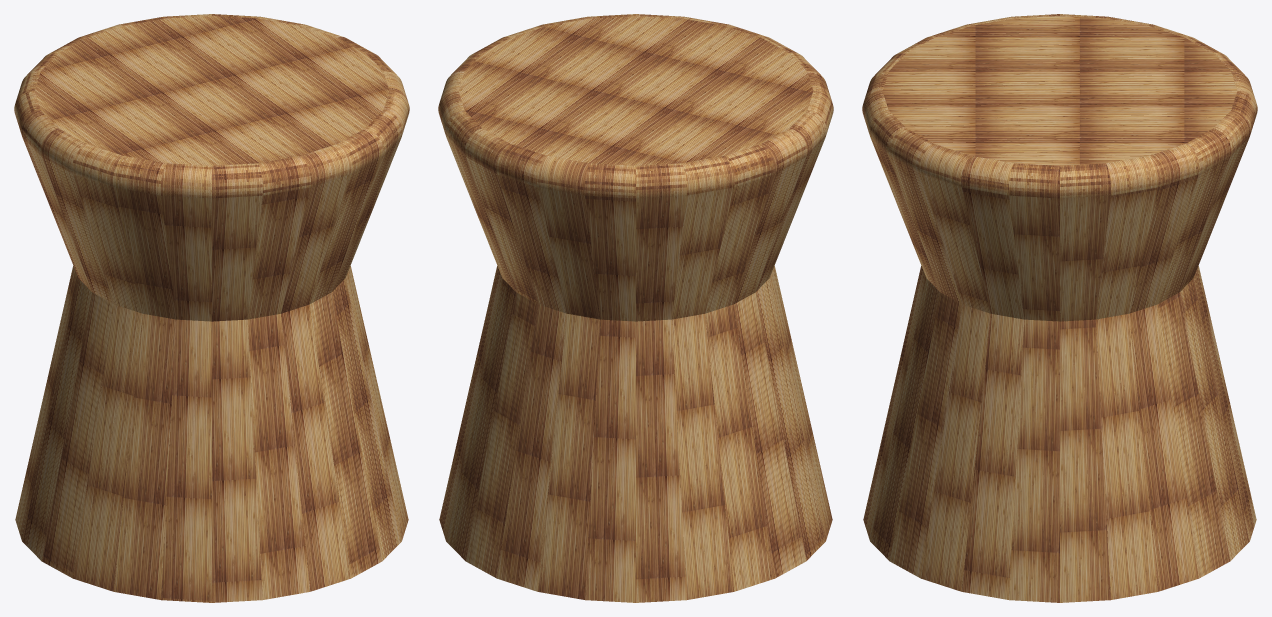
File: woodenstool.fbx
The picture shows the model from 3 angles, left to right: view 1: azimuth 30°, elevation 25°; view 2: azimuth 150°, elevation 25°; view 3: azimuth 270°, elevation 25°; orthographic projection.
Parts seen in each view (by area): view 1: Layer0_001; view 2: Layer0_001; view 3: Layer0_001.
Part boxes in pixels (bbox=[...]): Layer0_001: bbox=[14, 14, 409, 602]; Layer0_001: bbox=[438, 14, 833, 602]; Layer0_001: bbox=[862, 14, 1257, 602].
Bounding box in the file's own units: 42.6 × 51 × 42.6.
1 material, 1 textured.
